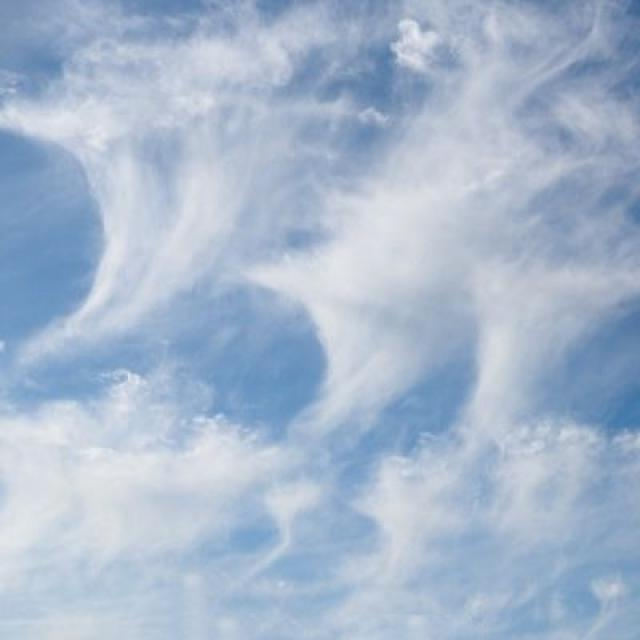Cc: (8, 53, 640, 483)
